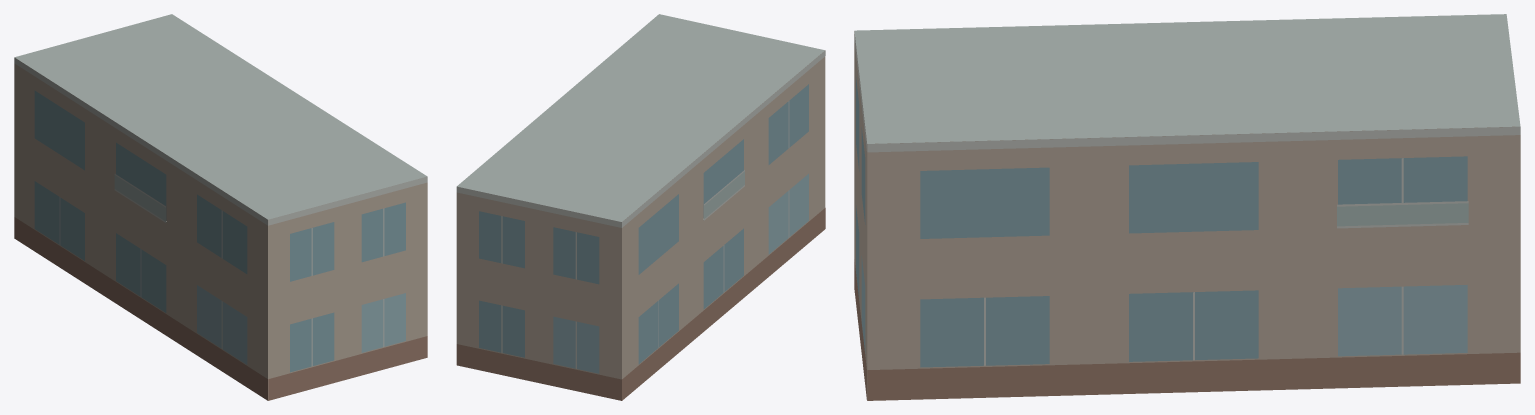
File: survey-upis-32739114.glb
The picture shows the model from 3 angles, left to right: view 1: azimuth 30°, elevation 25°; view 2: azimuth 150°, elevation 25°; view 3: azimuth 270°, elevation 25°; orthographic projection. The views are drawn at different scales.
Parts seen in each view (by area): view 1: survey-upis-32739114.tmp; view 2: survey-upis-32739114.tmp; view 3: survey-upis-32739114.tmp.
Boxes of the visible parts, bbox=[...] form: survey-upis-32739114.tmp: bbox=[14, 14, 427, 400]; survey-upis-32739114.tmp: bbox=[456, 14, 825, 400]; survey-upis-32739114.tmp: bbox=[854, 14, 1520, 400].
Size of the model in its own units: 8.04 by 7.4 by 17.4.
